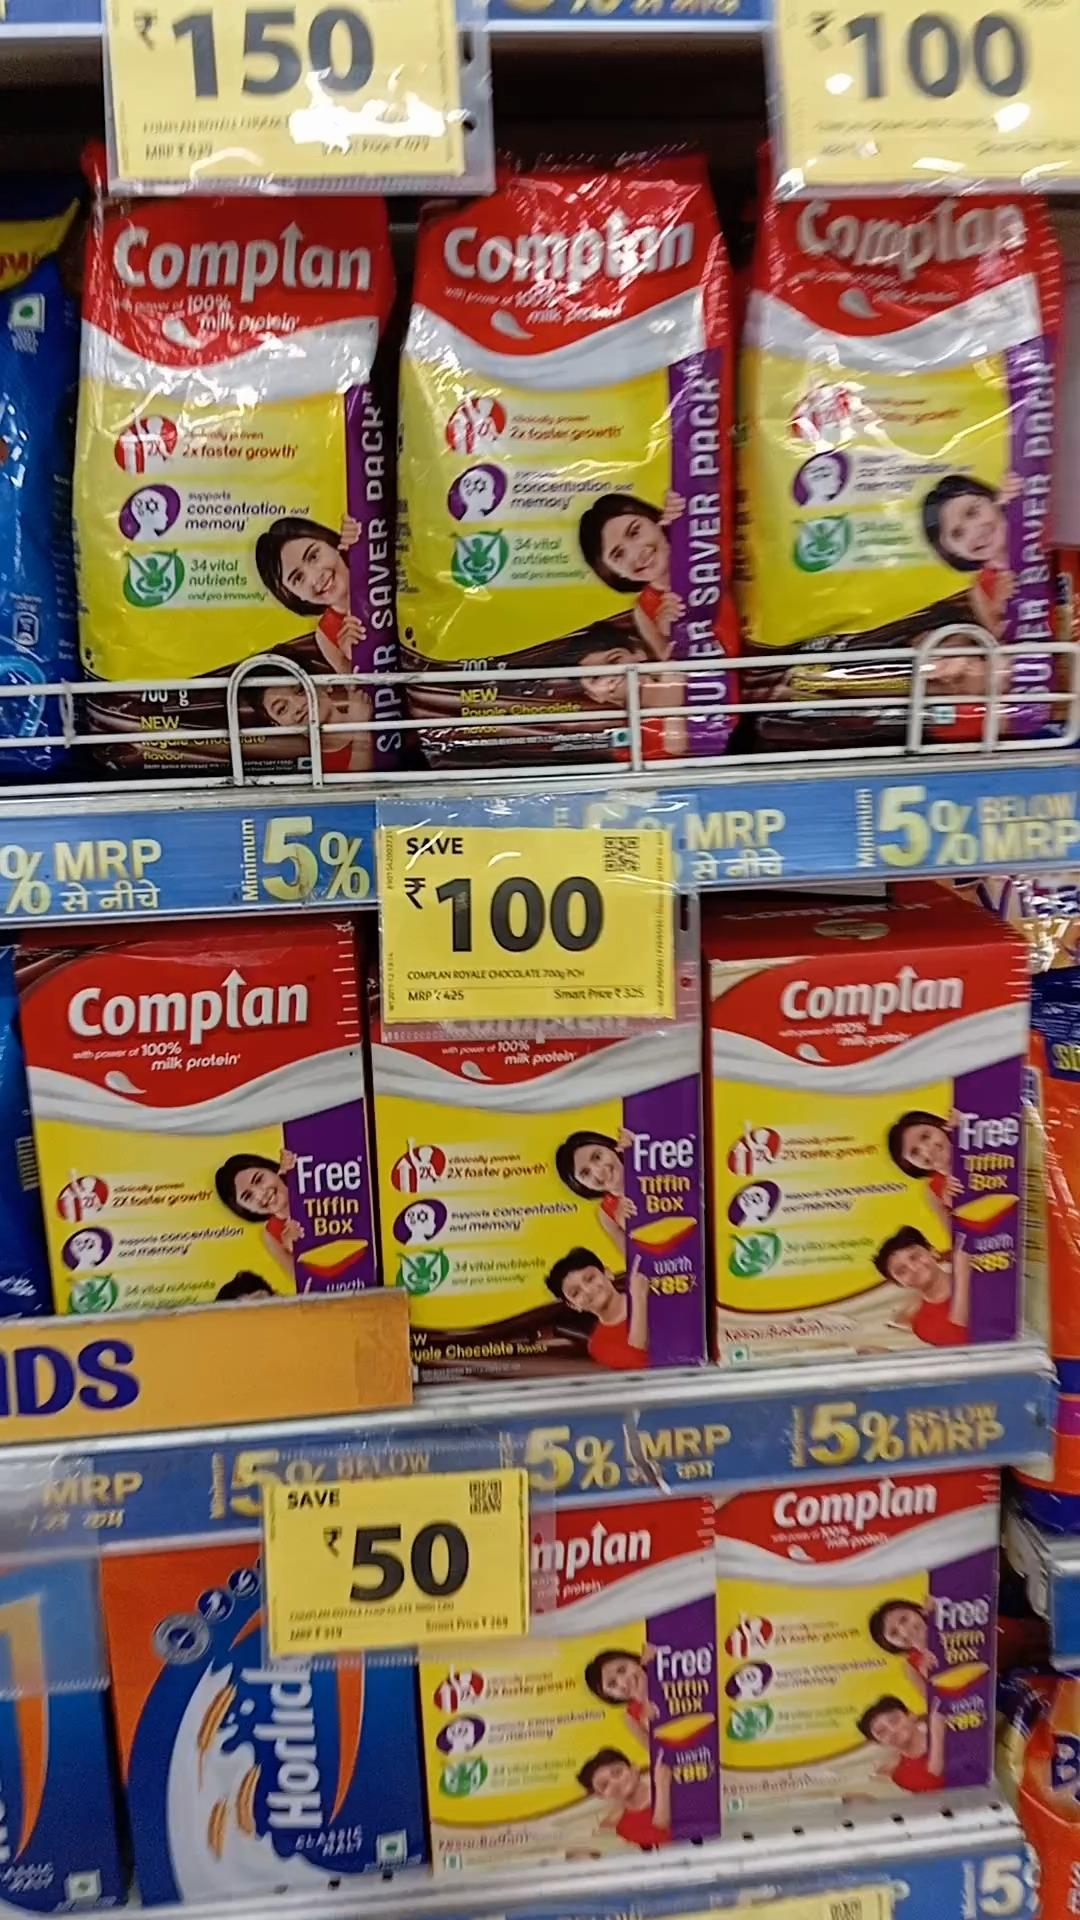COMPLAN_CHOCOLATE_500_GMS_PACK: (378, 1018, 705, 1399), (44, 931, 348, 1315)
COMPLAN_KESAR_BADAM_500_GMS_PACK: (716, 947, 1025, 1365), (438, 1513, 709, 1861), (723, 1489, 988, 1813)
COMPLAN_RC_POUCH_700_GMS_12: (80, 150, 393, 790), (401, 181, 711, 767), (756, 164, 1047, 766)
HORLICK_CLASSIC_MALT_500_G_PACK: (121, 1543, 406, 1909)
